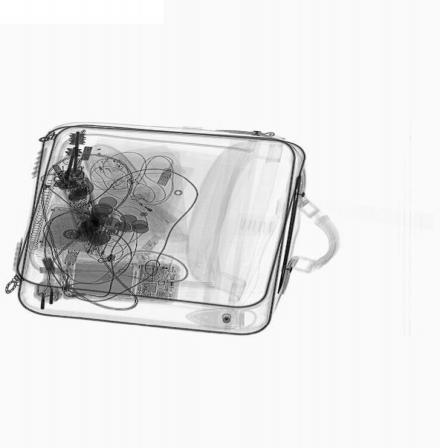Lighter: (123, 192, 180, 226)
